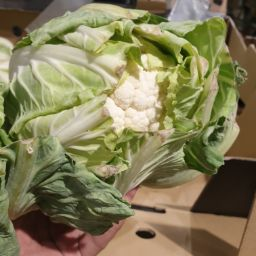Cauliflower: (2, 4, 244, 256), (2, 17, 205, 247), (34, 45, 203, 125)
